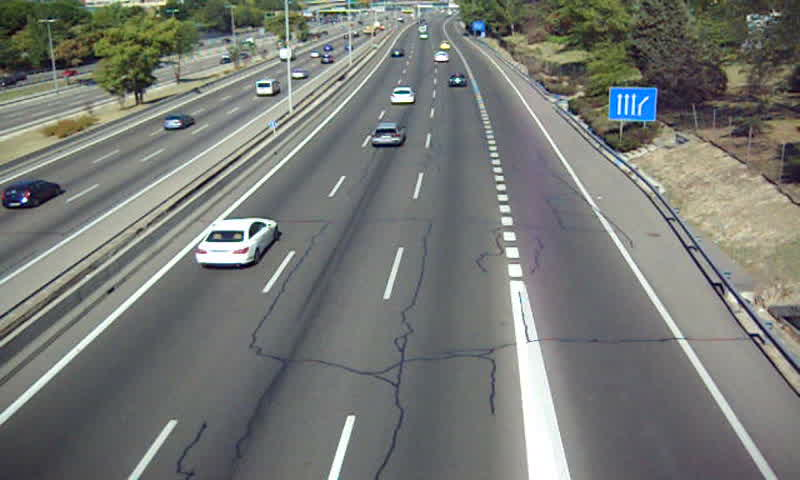car: (195, 220, 276, 266), (369, 122, 406, 148), (391, 88, 415, 106), (448, 73, 469, 89)
